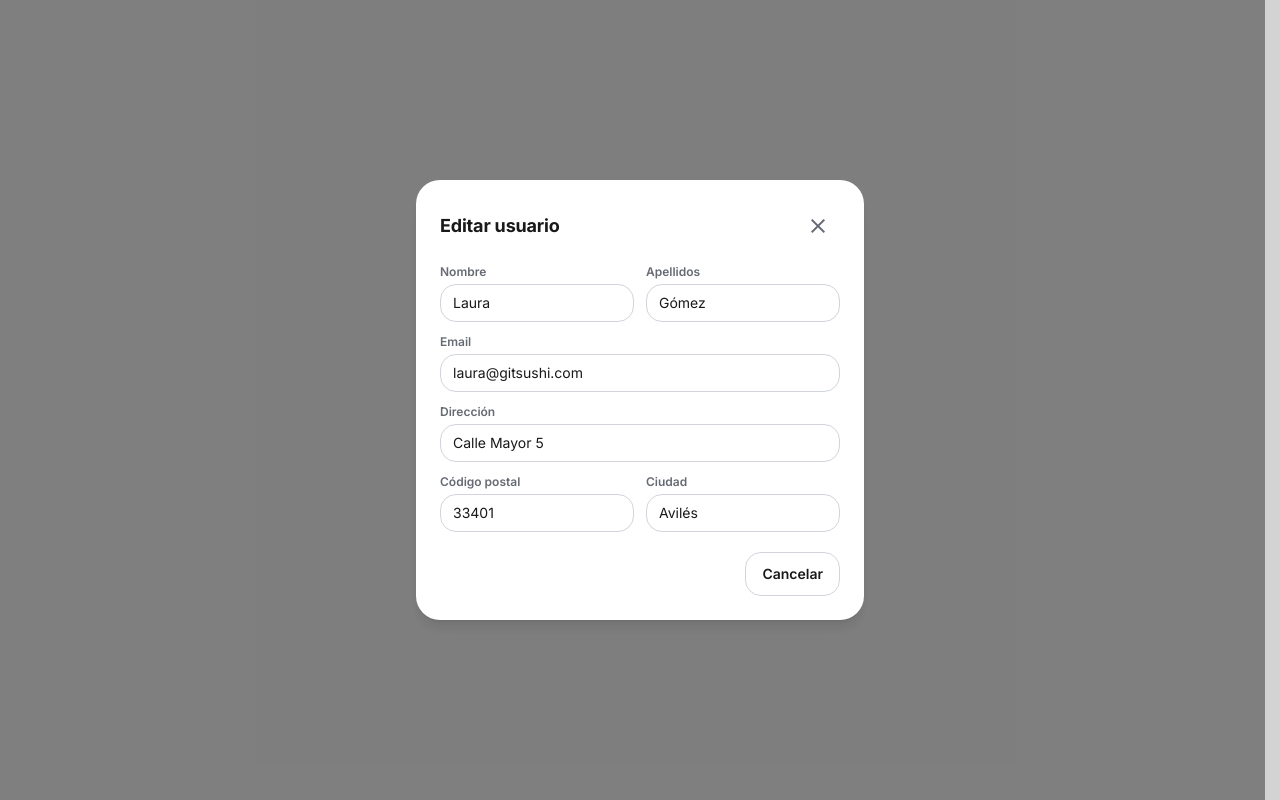
Scenario: UserFormModal › bloquea el botón y muestra "Guardando..." mientras guarda
Replace the text in the field with id "user-first-name" with "Lucía": (537, 303) 440,284 -> 634,322
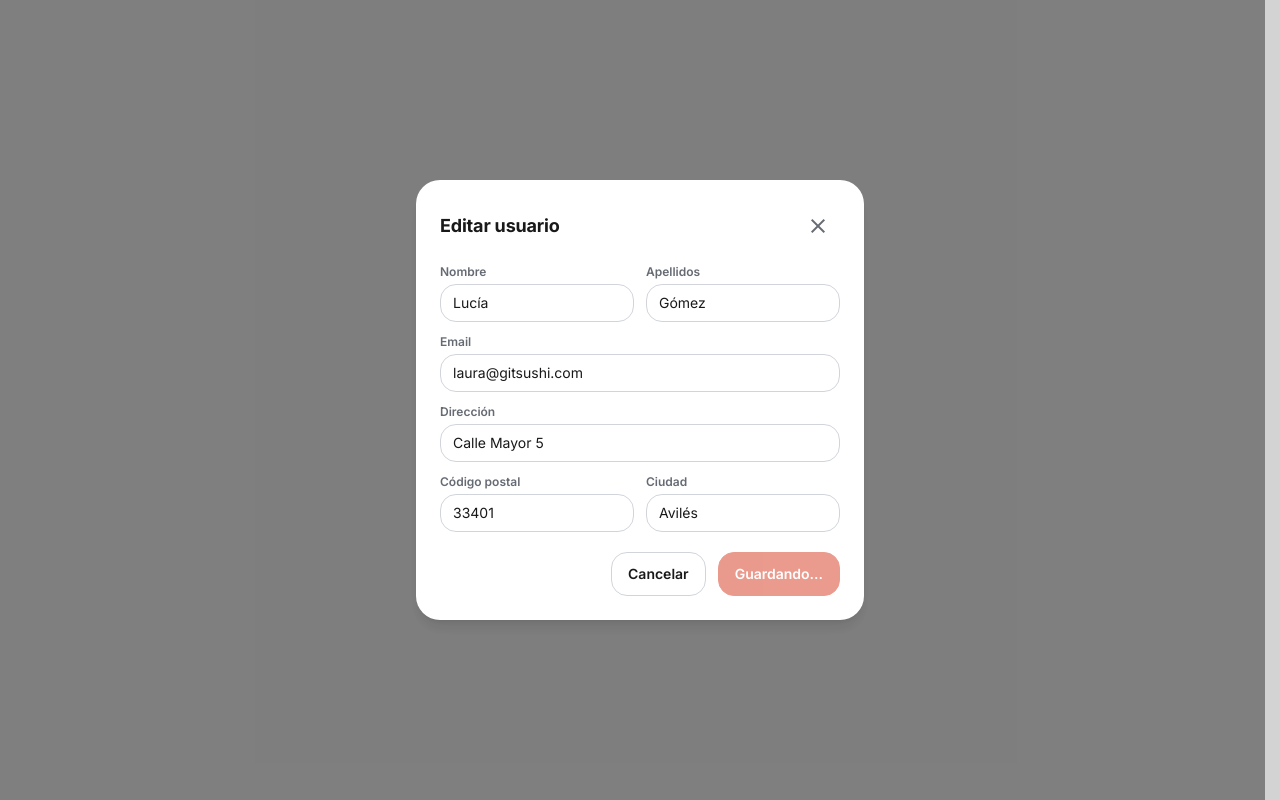
Expected: the submit button reads "Guardando...", 718,552 -> 840,596
Expected: the submit button is disabled, 718,552 -> 840,596
